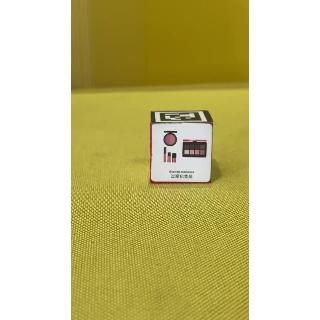Expired_Cosmetic: (153, 124, 213, 185)
